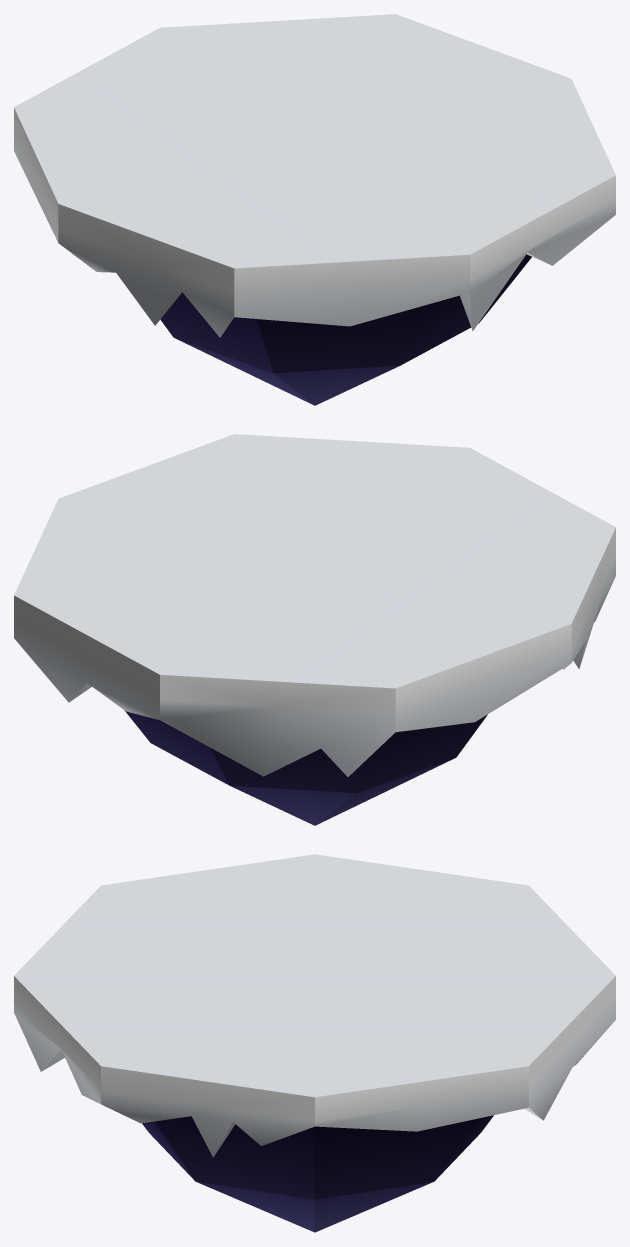
The model's file is MOD_PlatformV4_4.fbx.
3 renders of one model, top to bottom at view 1: azimuth 30°, elevation 25°; view 2: azimuth 150°, elevation 25°; view 3: azimuth 270°, elevation 25°, orthographic. The views are drawn at different scales.
Visible parts, largest first — view 1: MOD_ICE_Platform4, MOD_Platform4; view 2: MOD_ICE_Platform4, MOD_Platform4; view 3: MOD_ICE_Platform4, MOD_Platform4.
Boxes of the visible parts, box(x1,y1,x2,y2) form: MOD_ICE_Platform4: box(14, 14, 615, 337); MOD_Platform4: box(160, 254, 531, 405); MOD_ICE_Platform4: box(14, 434, 615, 776); MOD_Platform4: box(125, 711, 487, 825); MOD_ICE_Platform4: box(14, 854, 615, 1157); MOD_Platform4: box(142, 1115, 493, 1232).
Size of the model in its own units: 1.52 by 0.7511 by 1.6.
Materials: 2 (2 with a texture image).
